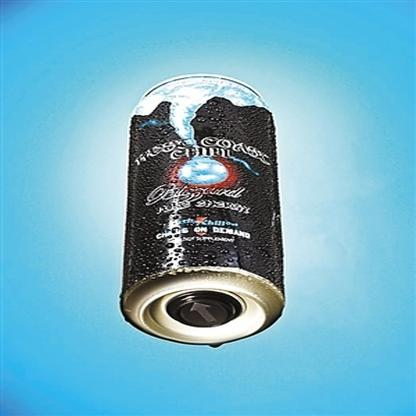can: (123, 72, 291, 346)
